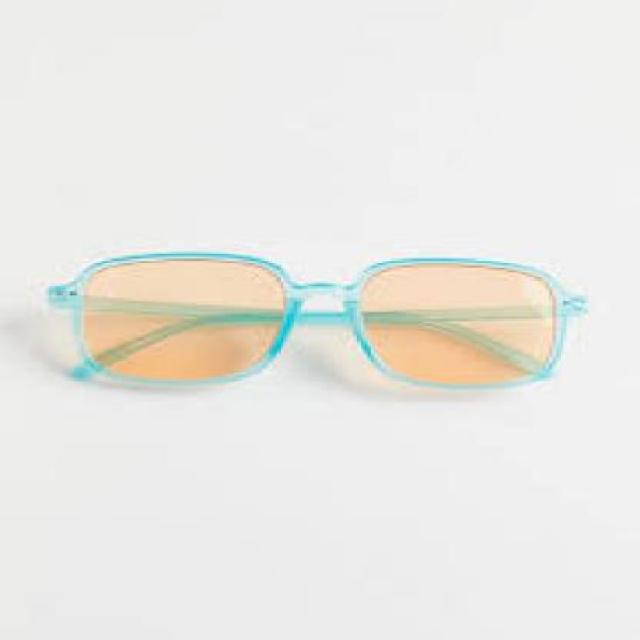gozluk: (28, 242, 577, 428)
